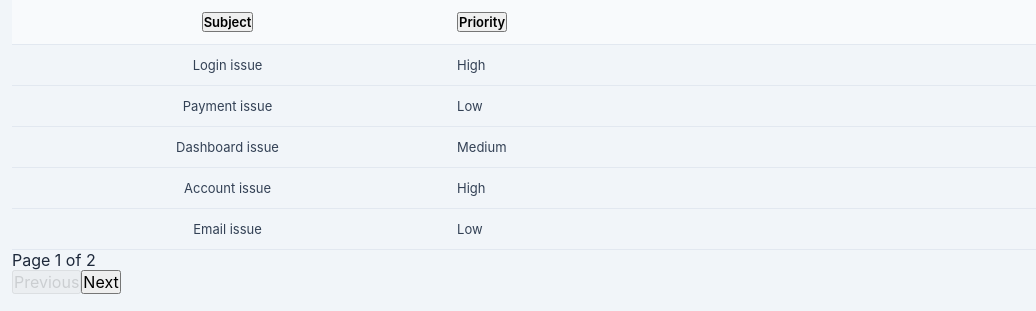
DataTable Component › moves to the previous page when Previous is clicked
This screenshot has width=1036, height=311.
Click the button "Next" at (101, 282), box x1=81 y1=270 x2=121 y2=294
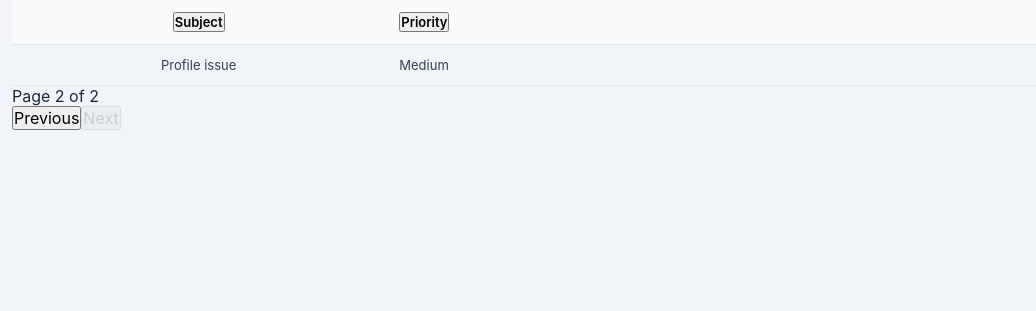
Click the button "Previous" at (47, 118), box x1=12 y1=106 x2=81 y2=130
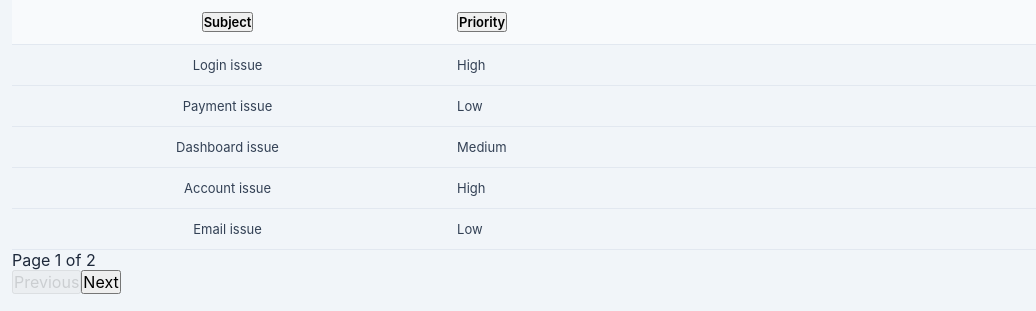
expect the text "Page 1 of 2" is shown: met, box x1=12 y1=250 x2=96 y2=270
